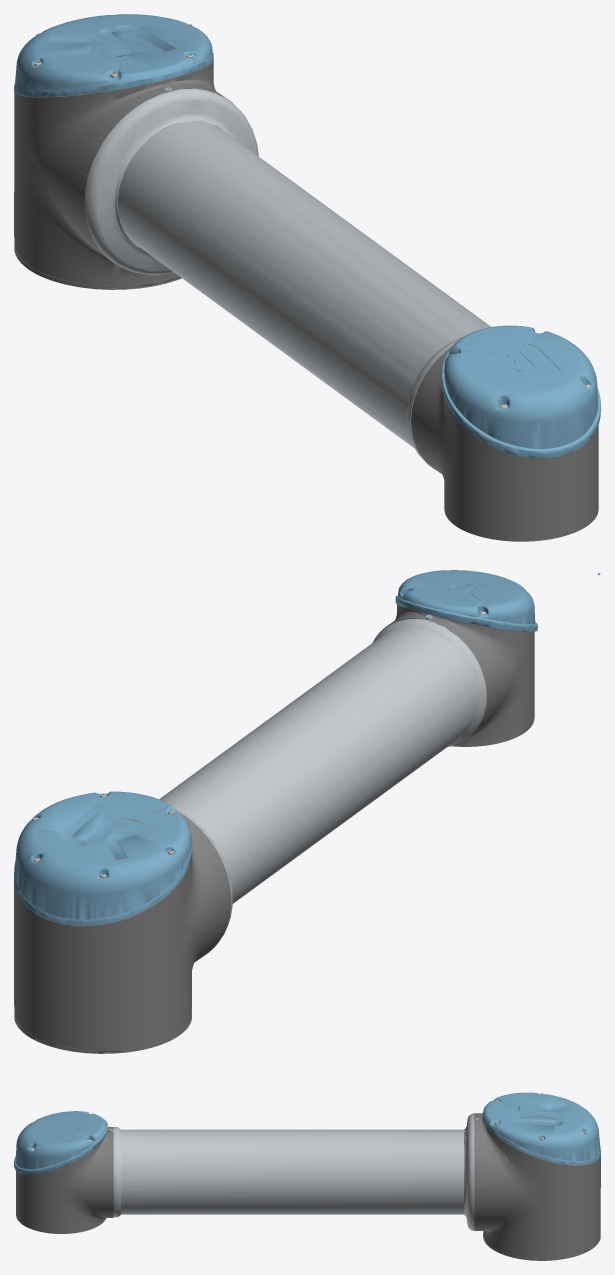
3 renders of one model, top to bottom at view 1: azimuth 30°, elevation 25°; view 2: azimuth 150°, elevation 25°; view 3: azimuth 270°, elevation 25°, orthographic. The views are drawn at different scales.
Visible parts, largest first — view 1: /node-shape3-name/shape3_001-mesh/0, /node-shape0-name/shape0_007-mesh/0, /node-shape1-name/shape1_005-mesh/0; view 2: /node-shape3-name/shape3_001-mesh/0, /node-shape0-name/shape0_007-mesh/0, /node-shape1-name/shape1_005-mesh/0; view 3: /node-shape3-name/shape3_001-mesh/0, /node-shape0-name/shape0_007-mesh/0, /node-shape1-name/shape1_005-mesh/0.
Part boxes in pixels (left/top/right/bottom): /node-shape3-name/shape3_001-mesh/0: left=84, top=88, right=490, bottom=469; /node-shape0-name/shape0_007-mesh/0: left=14, top=59, right=598, bottom=541; /node-shape1-name/shape1_005-mesh/0: left=14, top=14, right=600, bottom=458; /node-shape3-name/shape3_001-mesh/0: left=159, top=619, right=486, bottom=936; /node-shape0-name/shape0_007-mesh/0: left=14, top=604, right=534, bottom=1053; /node-shape1-name/shape1_005-mesh/0: left=14, top=570, right=600, bottom=925; /node-shape3-name/shape3_001-mesh/0: left=113, top=1113, right=474, bottom=1230; /node-shape0-name/shape0_007-mesh/0: left=16, top=1106, right=600, bottom=1260; /node-shape1-name/shape1_005-mesh/0: left=14, top=1092, right=600, bottom=1174.
Size of the model in its own units: 0.1767 by 0.1772 by 0.7479.
